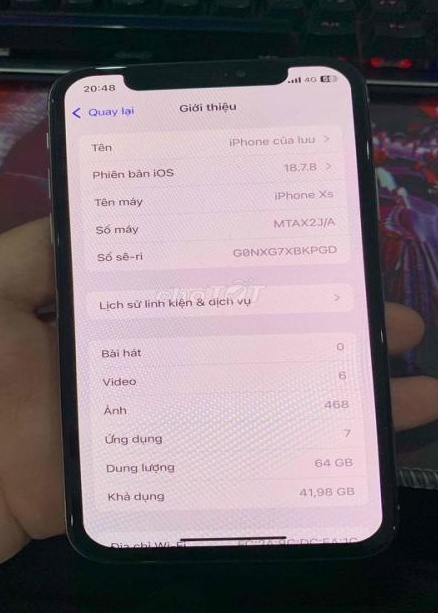scratch: (43, 88, 70, 118), (377, 493, 412, 516), (373, 322, 396, 354), (379, 517, 406, 540)
